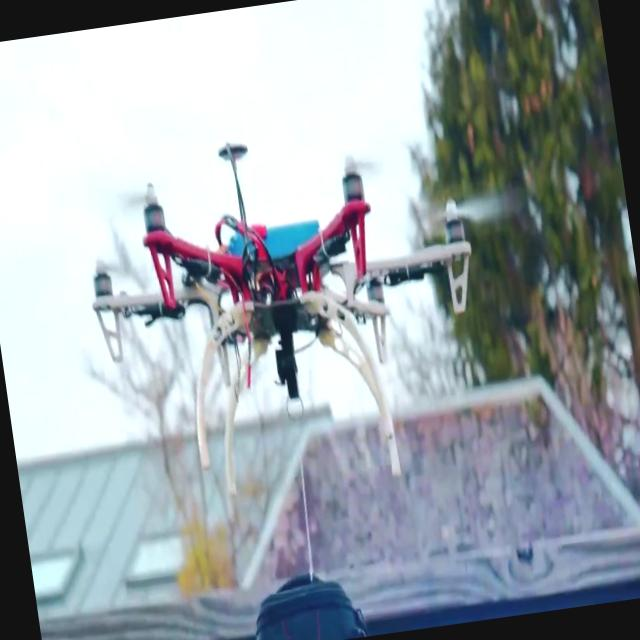drone: (70, 106, 514, 514)
